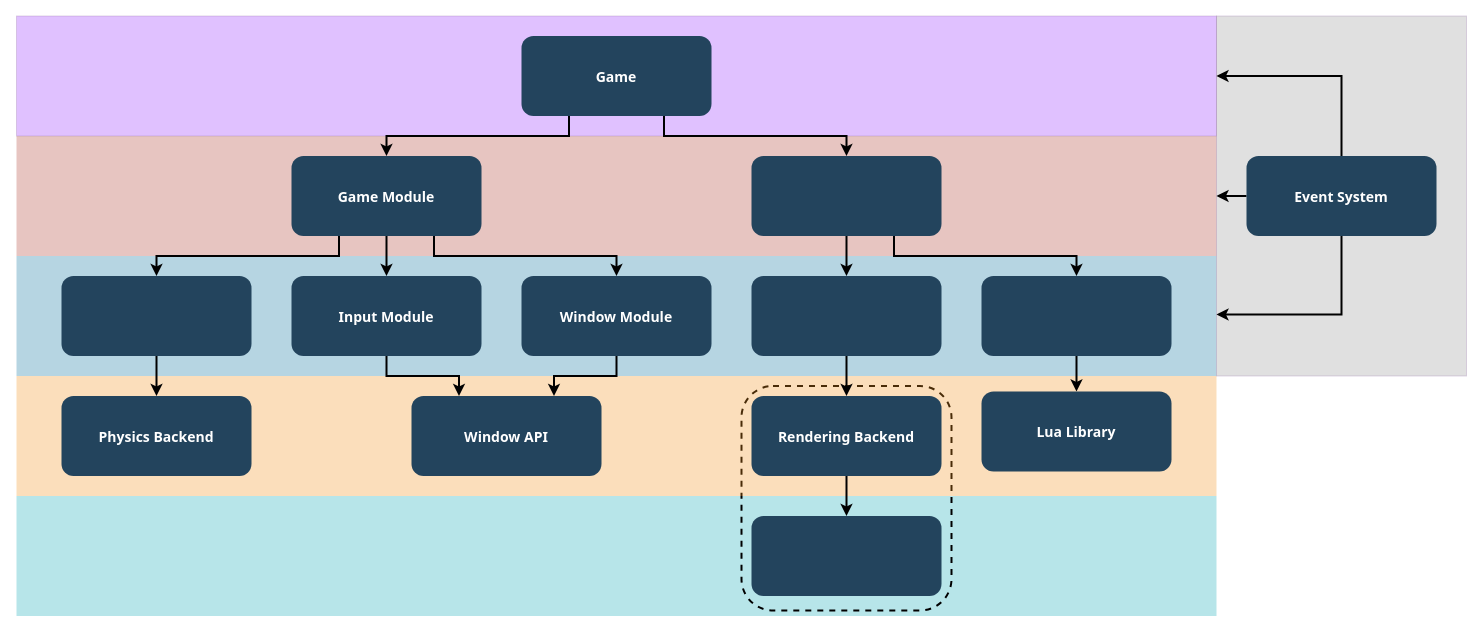
Some shapes in this 1483 by 632 pixel diagram are drawn without their labels. Each missing label, with the centre of its shape:
"ECS World" goes at (846,196).
"Graphics API" goes at (846,556).
"Physics Module" goes at (156,316).
"Rendering Module" goes at (846,316).
"Script Module" goes at (1076,316).
